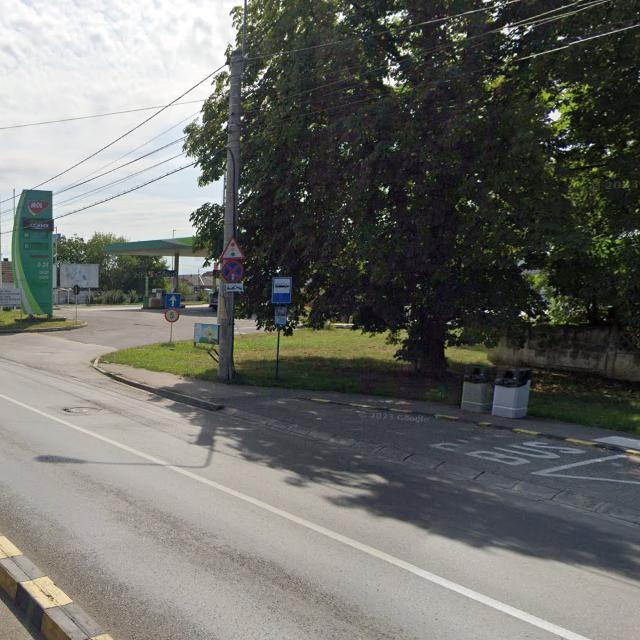forb_speed_over_5: (164, 308, 180, 322)
forb_stopping: (222, 260, 244, 283)
info_bus_station: (270, 277, 292, 304)
info_one_way_traffic: (165, 294, 181, 308)
warn_traffic_light: (220, 237, 246, 260)
